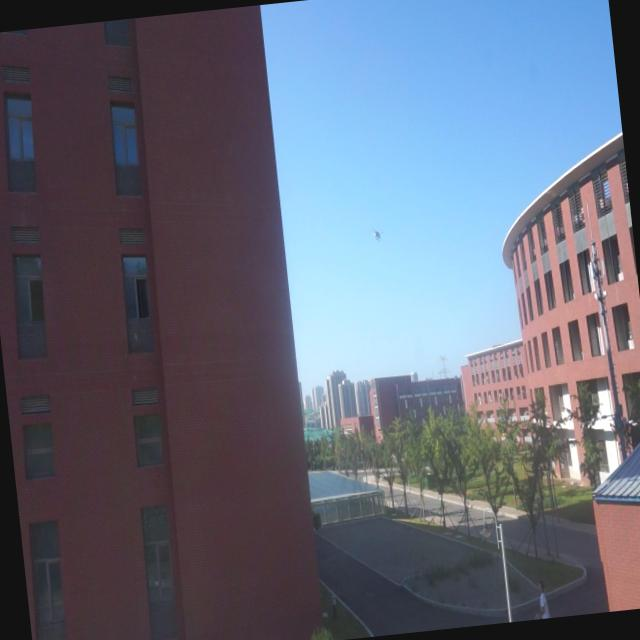drone: (366, 222, 388, 245)
